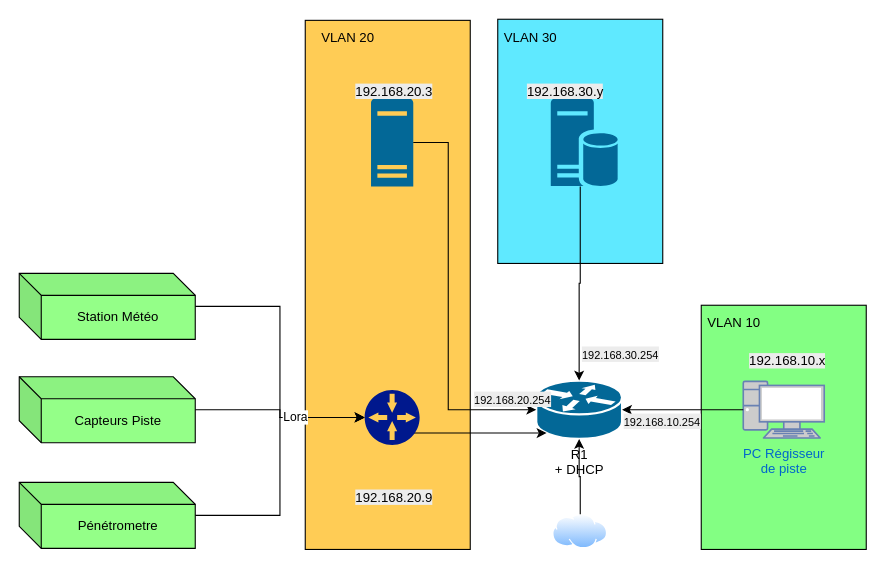
The diagram is 886 pixels wide and 569 high, and some of its shapes have lost their labels. The centre of each missing label's shape, as x and y in pixels:
ChirpStack: (391,142)
LoraWAN Gateway: (391,416)
Serveur Base De Données + API: (583,142)
